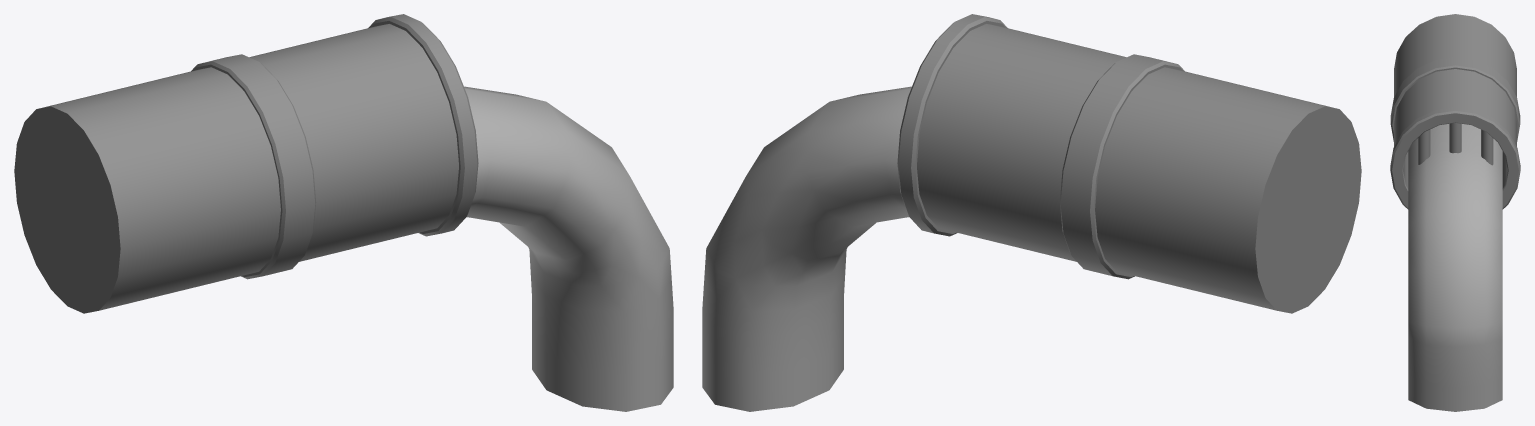
Rendered from WaterPipeMesh.fbx.
3 renders of one model, left to right at view 1: azimuth 30°, elevation 25°; view 2: azimuth 150°, elevation 25°; view 3: azimuth 270°, elevation 25°, orthographic. The views are drawn at different scales.
Visible parts, largest first — view 1: PipeMesh, WaterMesh; view 2: PipeMesh, WaterMesh; view 3: WaterMesh, PipeMesh.
Part boxes in pixels (left/top/right/bottom): PipeMesh: left=14, top=14, right=478, bottom=313; WaterMesh: left=464, top=86, right=673, bottom=411; PipeMesh: left=897, top=14, right=1361, bottom=313; WaterMesh: left=702, top=86, right=911, bottom=411; WaterMesh: left=1408, top=124, right=1502, bottom=411; PipeMesh: left=1390, top=14, right=1520, bottom=209.
Bounding box in the file's own units: 10.48 × 6.82 × 3.45.
